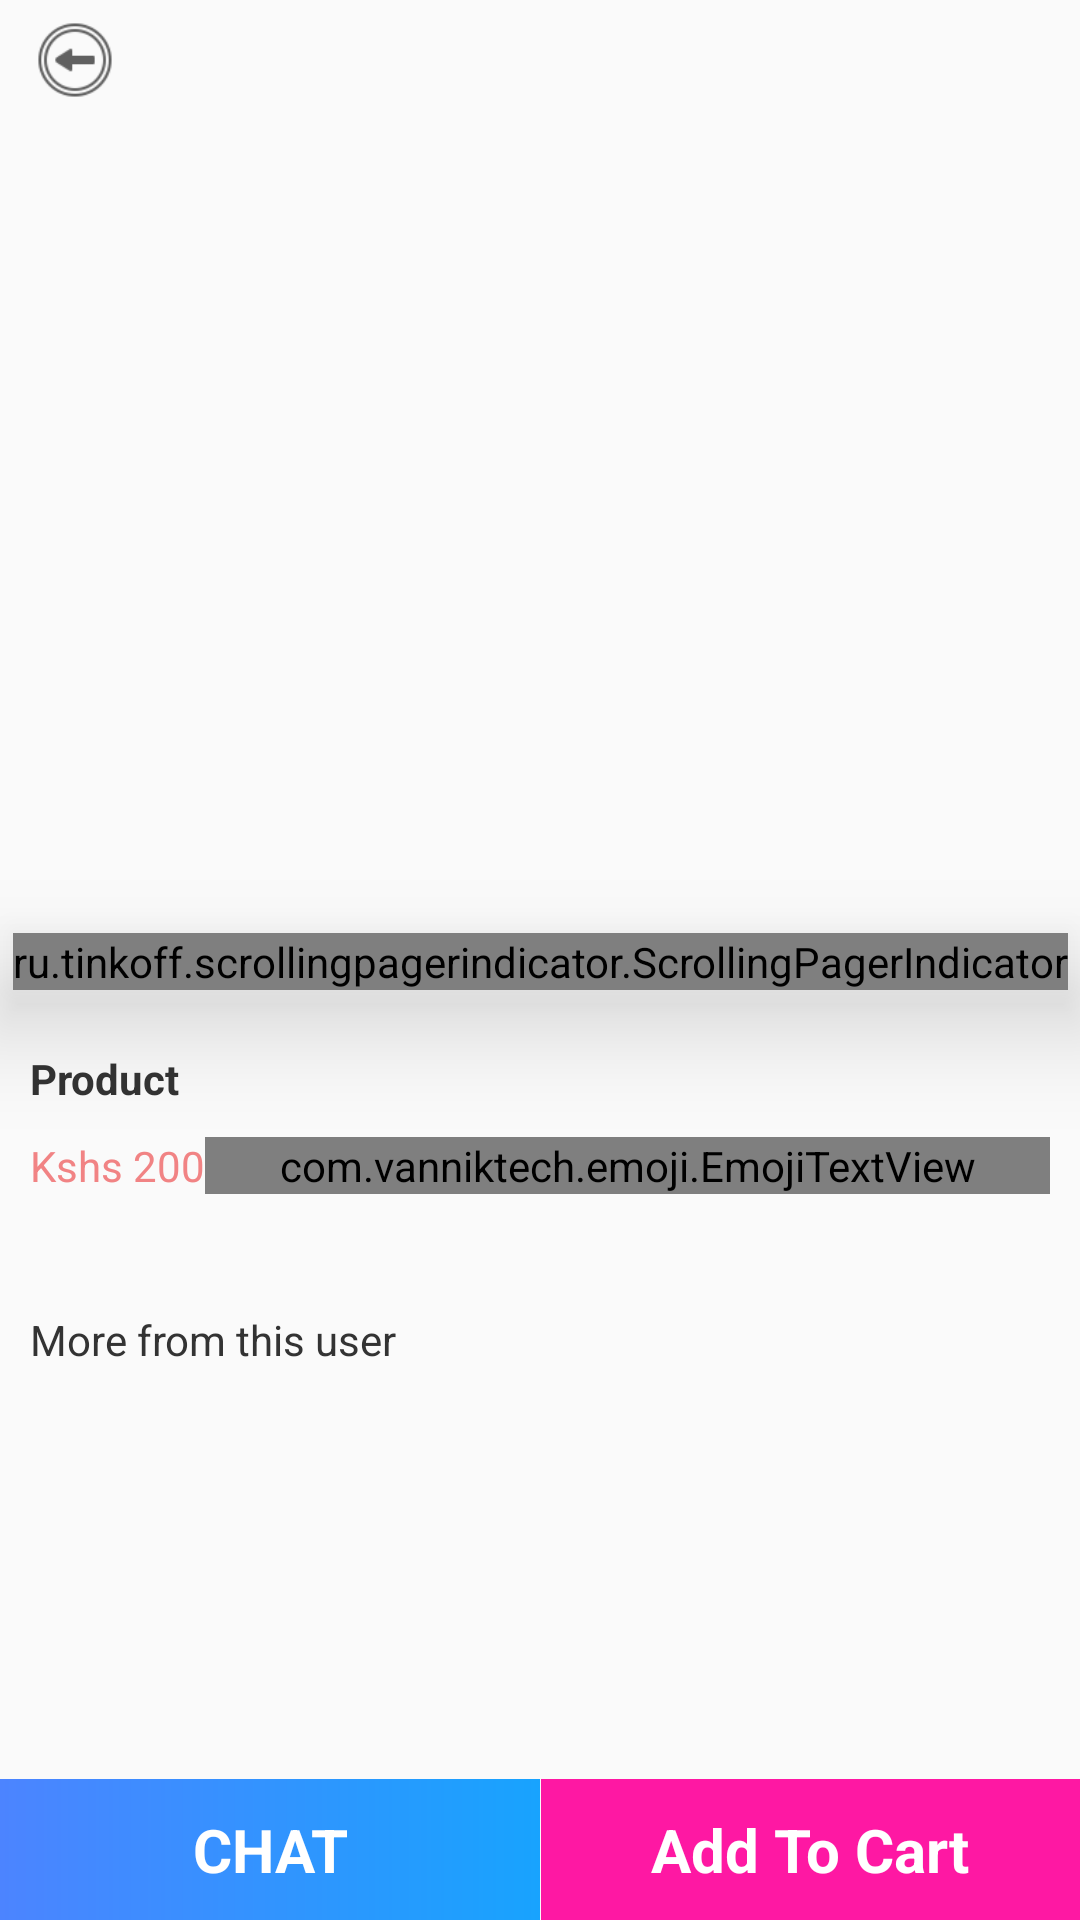

Where to tap for icons on this 1080 x 1920 app screen, as (x,y):
back: (75,60)
